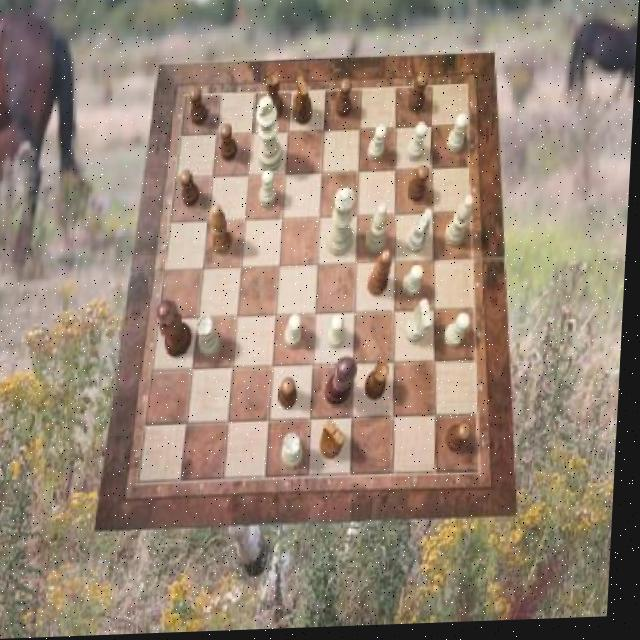bishop: (211, 206, 236, 258), (369, 254, 394, 301)
black-bishop: (328, 360, 362, 408)
black-king: (324, 422, 350, 463), (295, 79, 315, 128)
black-knight: (407, 75, 429, 115), (408, 169, 430, 207), (189, 88, 210, 127), (180, 172, 202, 209), (449, 426, 476, 455), (220, 125, 239, 163), (336, 80, 353, 119), (284, 380, 302, 411)
black-pawn: (157, 300, 197, 360)
black-queen: (265, 73, 286, 123), (369, 364, 394, 404)
black-rook: (447, 199, 476, 251), (368, 205, 390, 257)
white-bishop: (254, 96, 285, 175)
white-king: (408, 302, 436, 345), (408, 212, 434, 258)
white-knight: (407, 126, 430, 166), (447, 315, 473, 350), (448, 117, 468, 156), (260, 171, 279, 210), (404, 267, 426, 300), (369, 127, 388, 165), (330, 317, 349, 352), (288, 317, 306, 350)
white-pawn: (329, 189, 358, 259)
white-queen: (200, 318, 225, 358), (286, 435, 310, 470)
